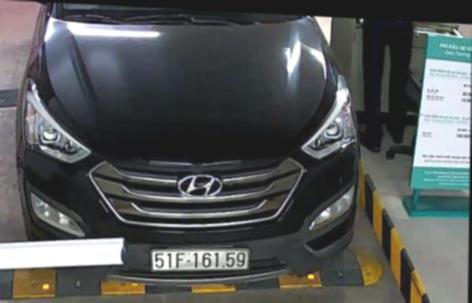License_Plate: (146, 241, 252, 273)
